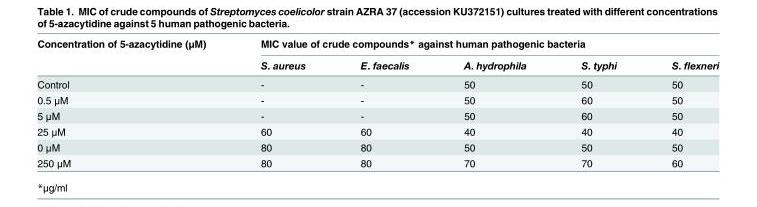table: (36, 37, 718, 168)
table column: (36, 37, 232, 168), (435, 37, 553, 168), (332, 37, 435, 168), (232, 37, 332, 168), (553, 37, 643, 168), (643, 37, 718, 168)
table column header: (36, 37, 718, 74)
table row: (36, 53, 718, 74), (36, 74, 718, 91), (36, 37, 718, 53), (36, 91, 718, 107), (36, 107, 718, 123), (36, 123, 718, 139), (36, 139, 718, 154), (36, 154, 718, 168)
table spanning cell: (232, 37, 718, 53), (36, 37, 232, 74)
